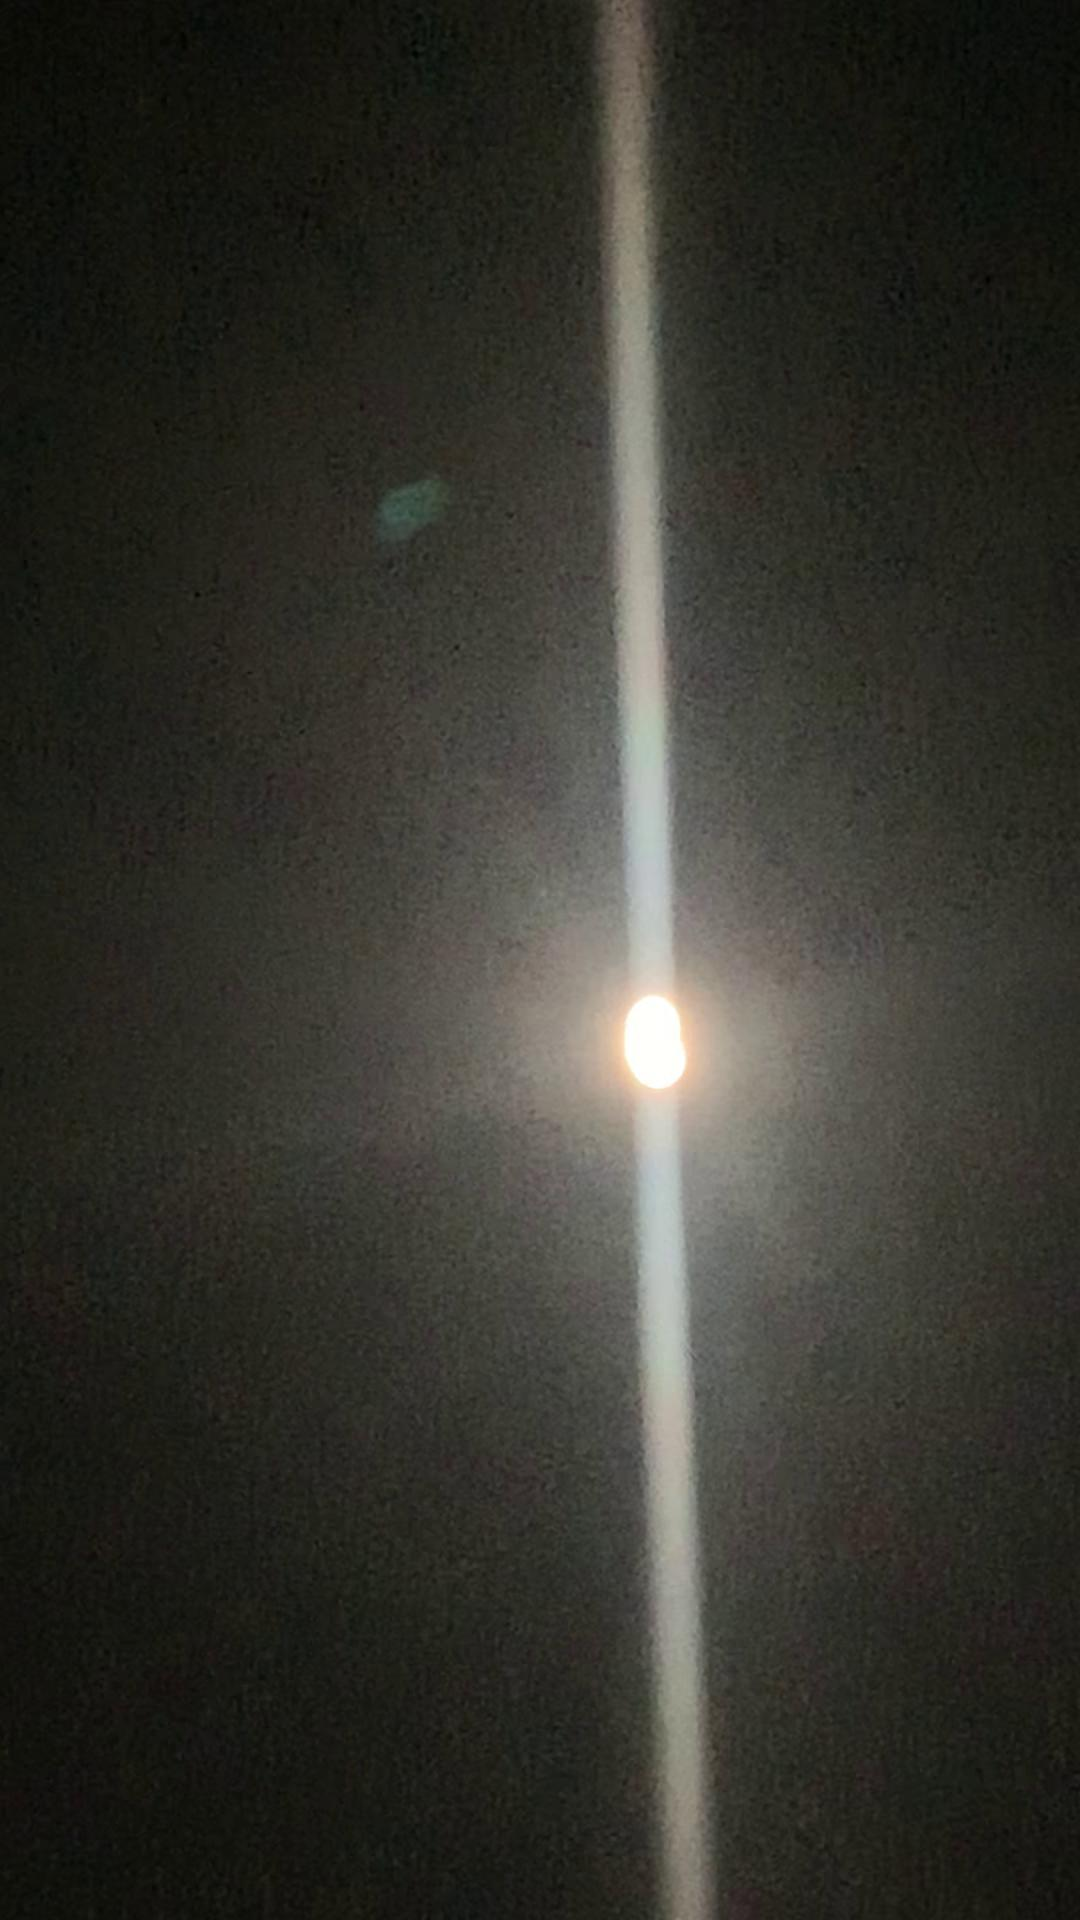moon: (604, 986, 709, 1092)
